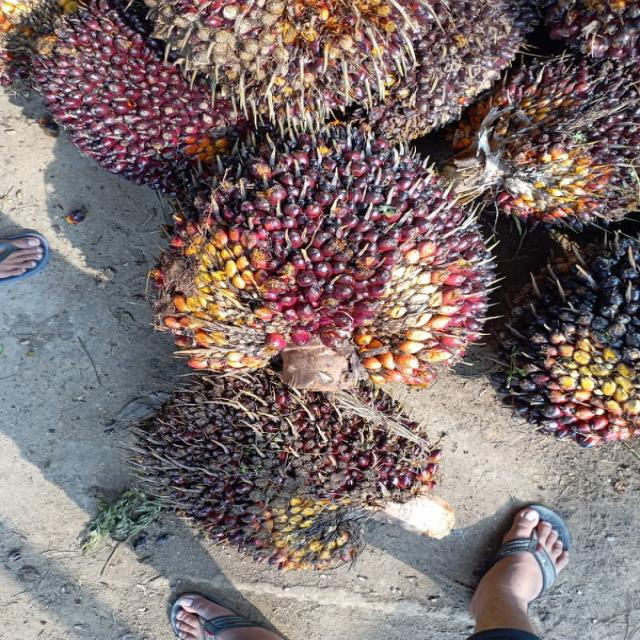fraksi 00: (516, 242, 640, 437)
fraksi 1: (165, 139, 495, 373), (131, 382, 422, 551), (159, 0, 433, 120), (33, 10, 226, 179), (471, 54, 640, 223)
